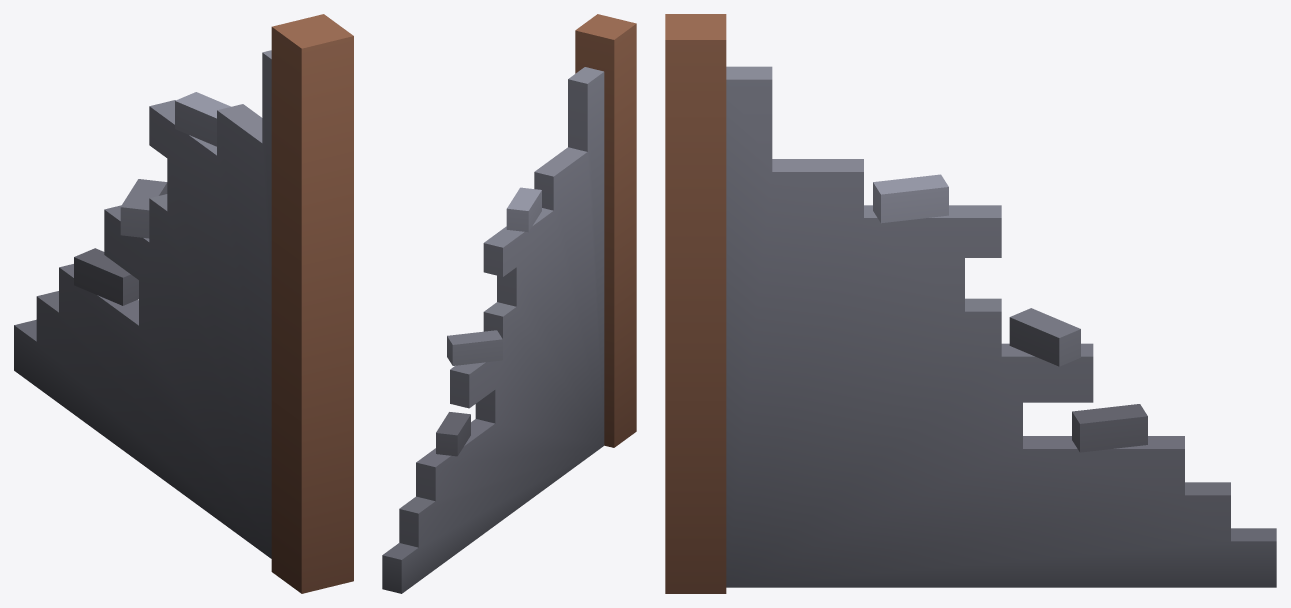
File: wall-broken.glb
3 views of the same model, side by side, from view 1: azimuth 30°, elevation 25°; view 2: azimuth 150°, elevation 25°; view 3: azimuth 270°, elevation 25° (orthographic). The views are drawn at different scales.
Parts seen in each view (by area): view 1: wall-broken; view 2: wall-broken; view 3: wall-broken.
Part boxes in pixels (box(x1,y1,x2,y2)): wall-broken: box(14, 14, 353, 593); wall-broken: box(382, 14, 636, 593); wall-broken: box(665, 14, 1276, 593).
Bounding box in the file's own units: 0.3501 × 3 × 3.
